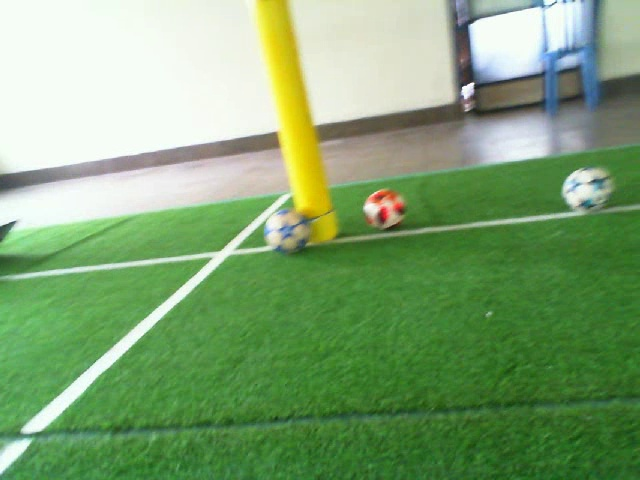ball: (560, 164, 620, 215), (261, 208, 312, 256), (361, 187, 410, 232)
